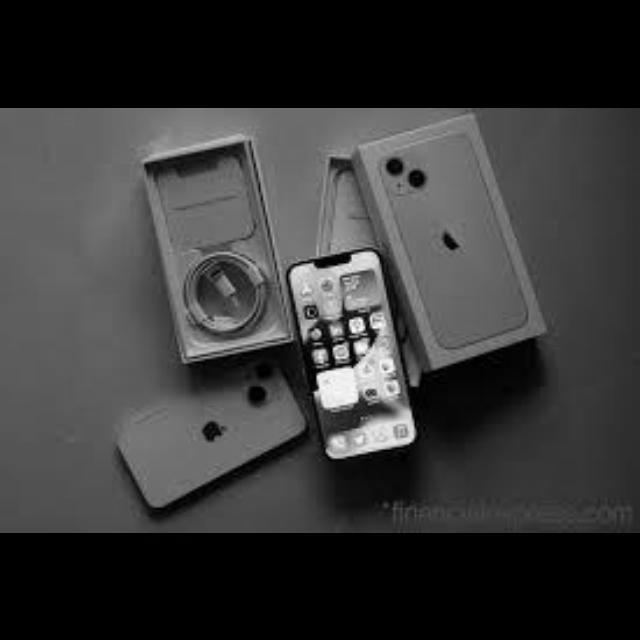fake: (269, 236, 459, 485)
